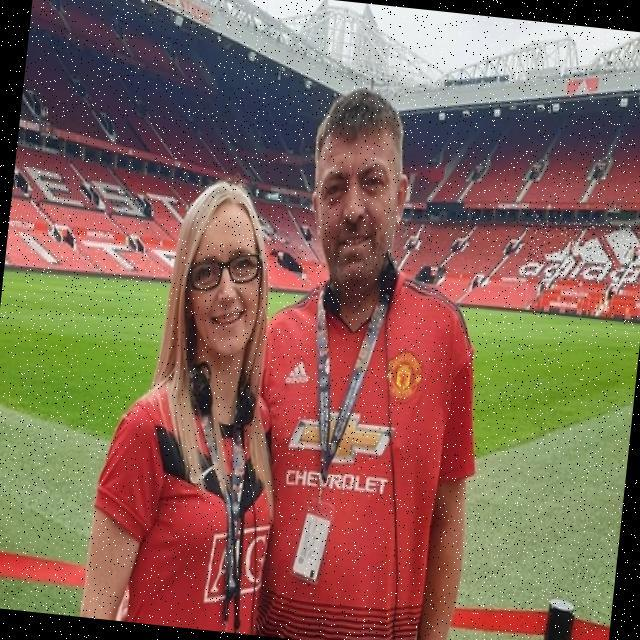Adidas: (517, 213, 640, 289), (283, 353, 314, 389)
Chevrolet: (283, 403, 399, 500)
